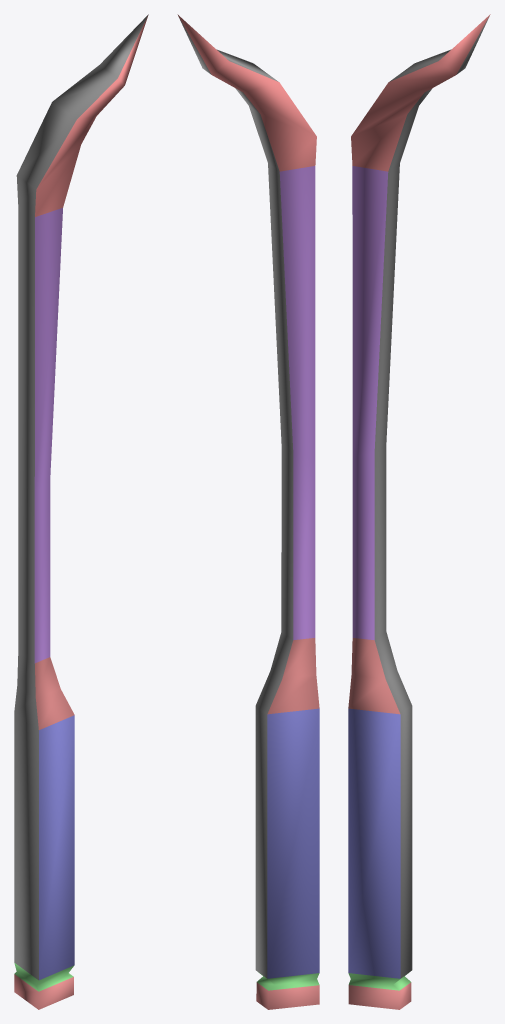
The model's file is wall_deco_09.gltf.
3 renders of one model, left to right at view 1: azimuth 30°, elevation 25°; view 2: azimuth 210°, elevation 25°; view 3: azimuth 330°, elevation 25°, orthographic. The views are drawn at different scales.
Parts seen in each view (by area): view 1: wall_deco_09; view 2: wall_deco_09; view 3: wall_deco_09.
Boxes of the visible parts, x1,y1,x2,y2 form: wall_deco_09: [14, 14, 148, 1009]; wall_deco_09: [177, 14, 319, 1009]; wall_deco_09: [348, 14, 490, 1009].
Bounding box in the file's own units: 0.5451 × 4.08 × 0.1906.
